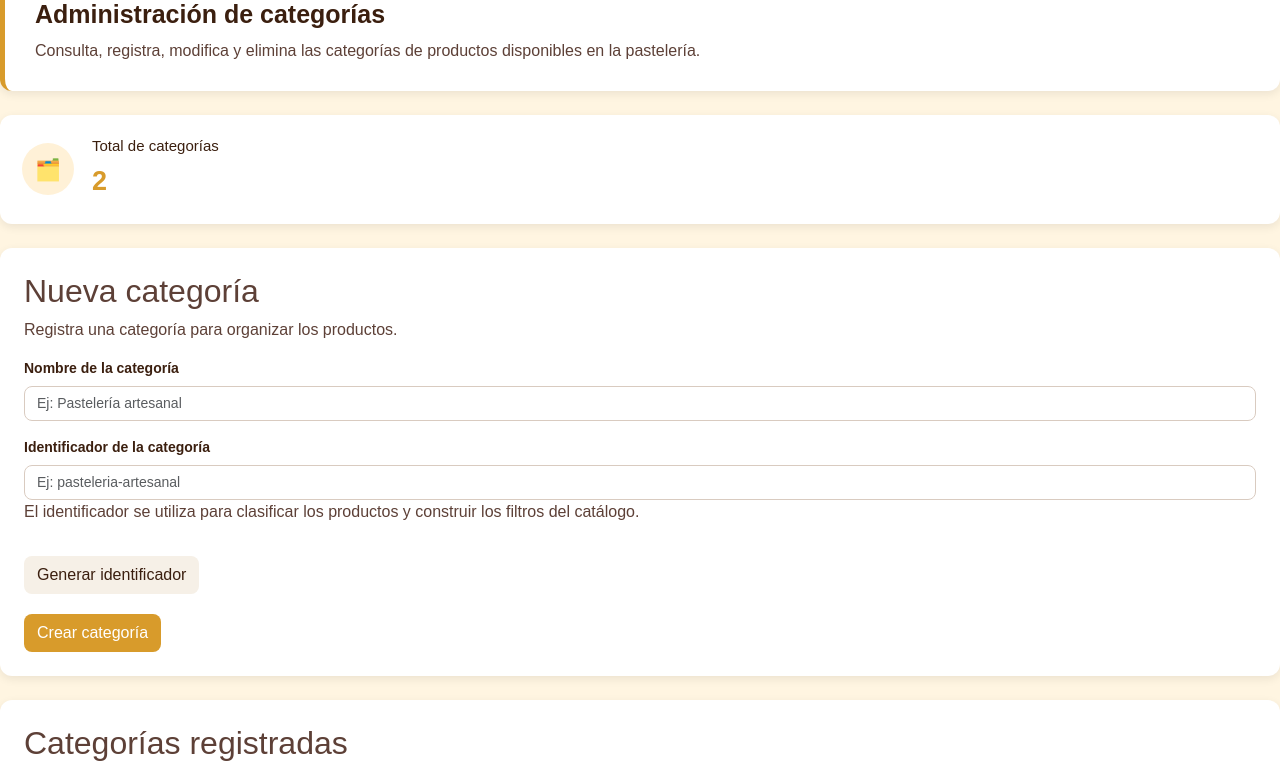
it: C3-09 - Administración de categorías › crea una categoría mediante la API
The width and height of the screenshot is (1280, 771).
In the field labelled "Nombre de la categoría": (640, 403) [24,386,1256,421], type "Categoría de Prueba"
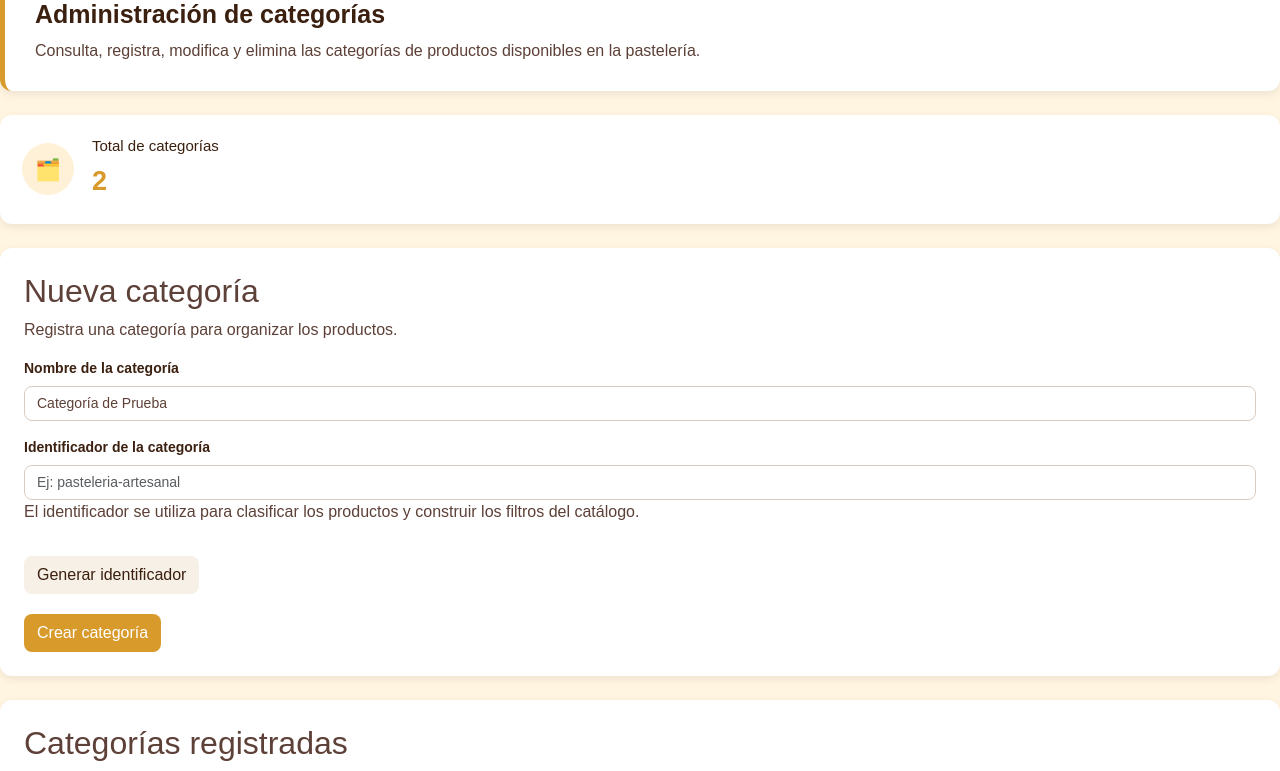
In the field labelled "Identificador de la categoría": (640, 482) [24,465,1256,500], type "prueba"
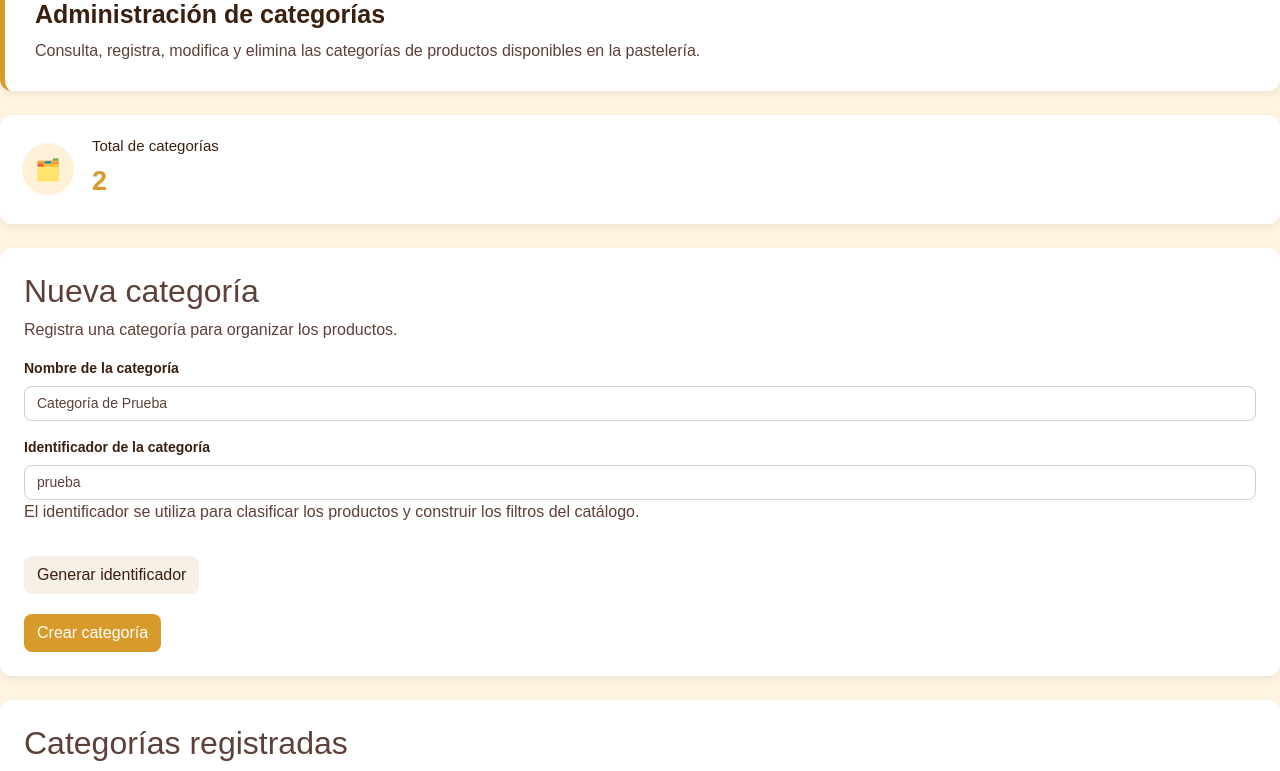
Click the button "Crear categoría": (93, 633) [24,614,161,652]
(page scrolled)
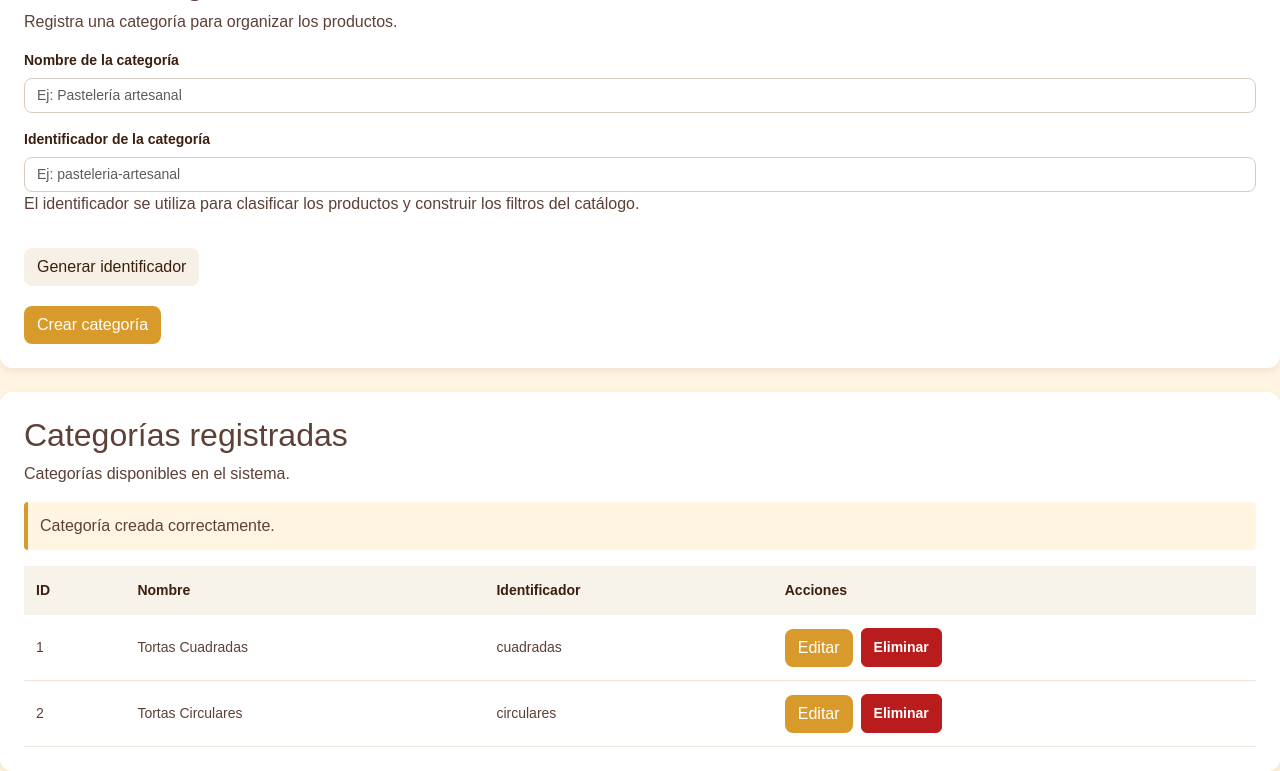
Now the text "Categoría creada correctamente." is shown, box [24,502,1256,550]
